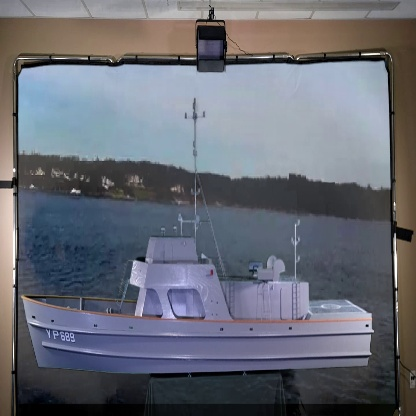YP689: (20, 80, 372, 379)
